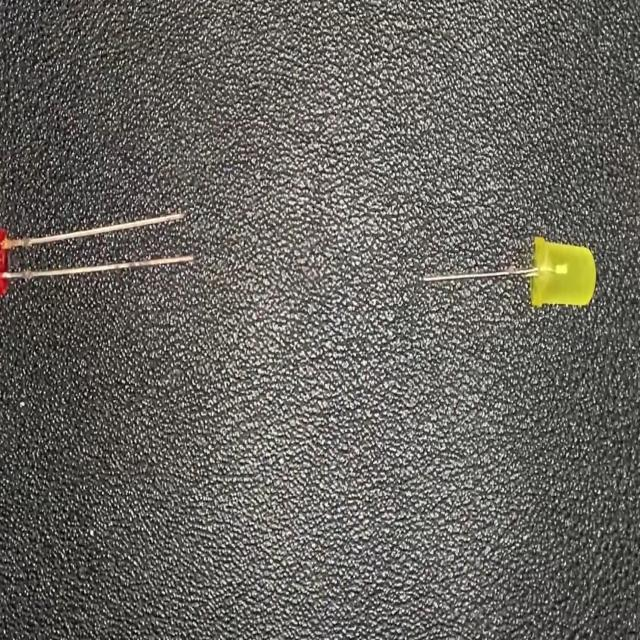missing-leg: (423, 237, 596, 307)
